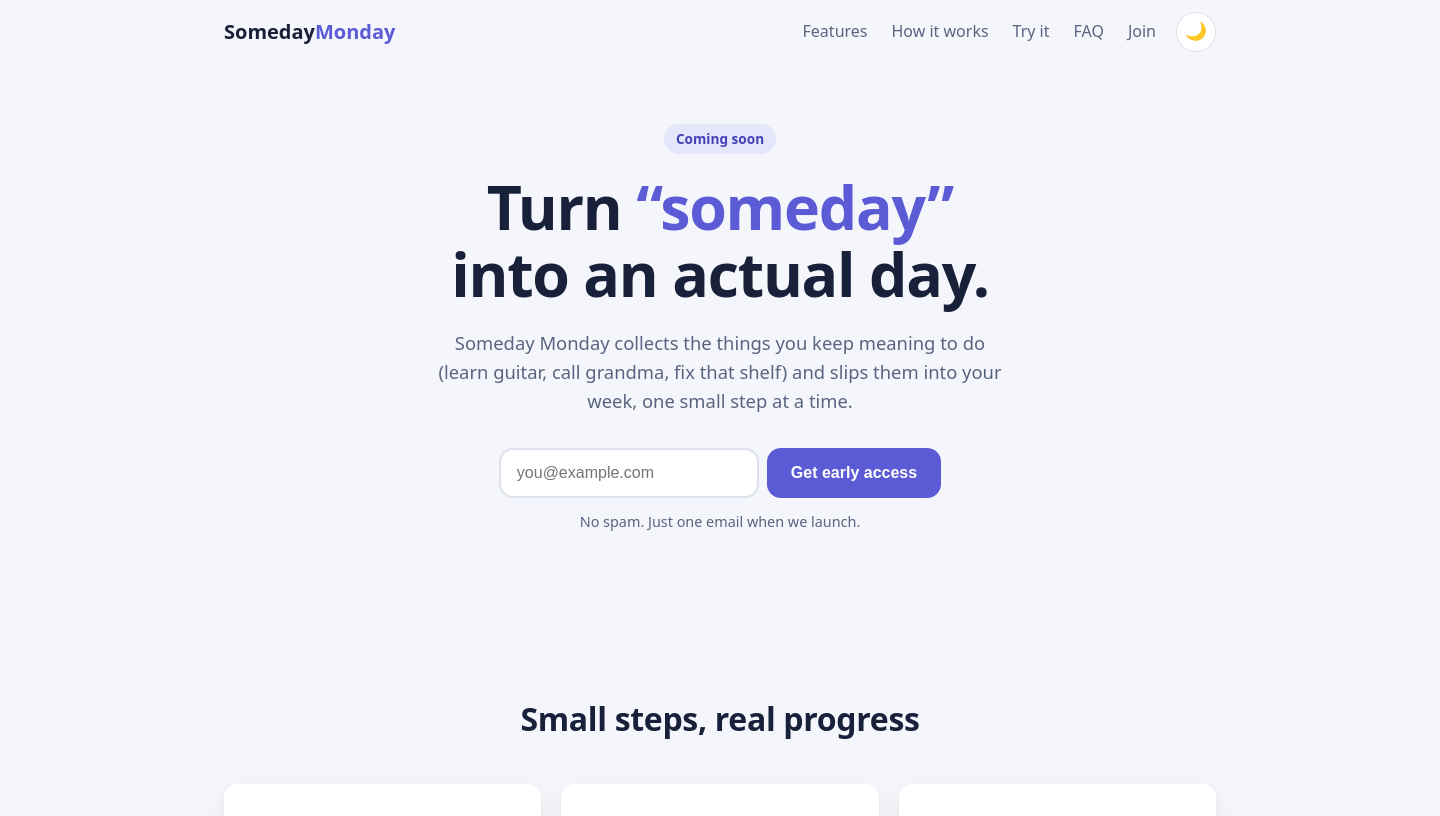
Test case: referral link › shows the spot and a copyable link after signing up
Type "me@example.com" into the field named "Email address" at (629, 473), box x1=499 y1=448 x2=759 y2=498
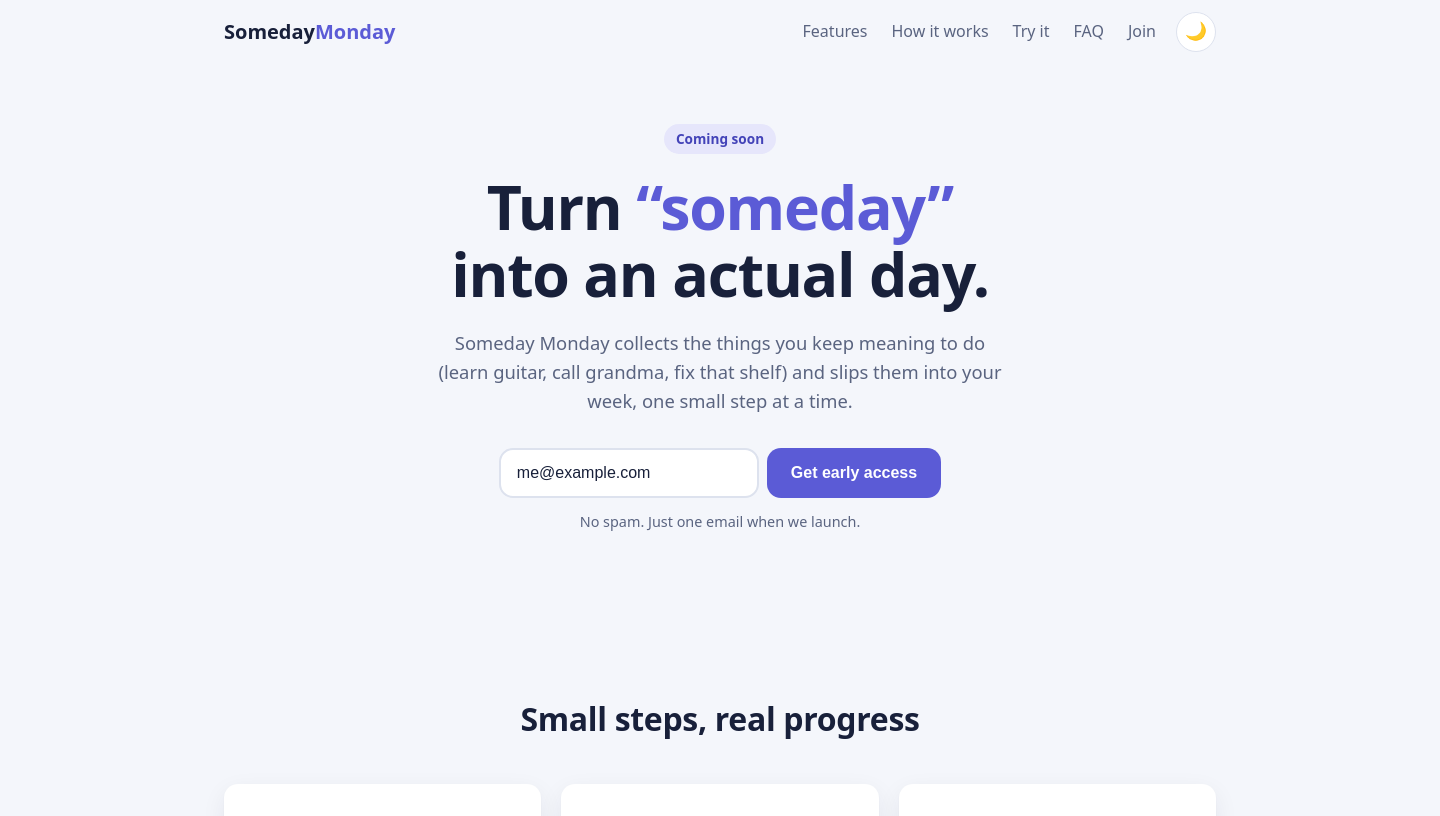
Click the button "Get early access" at (854, 473), box x1=767 y1=448 x2=941 y2=498
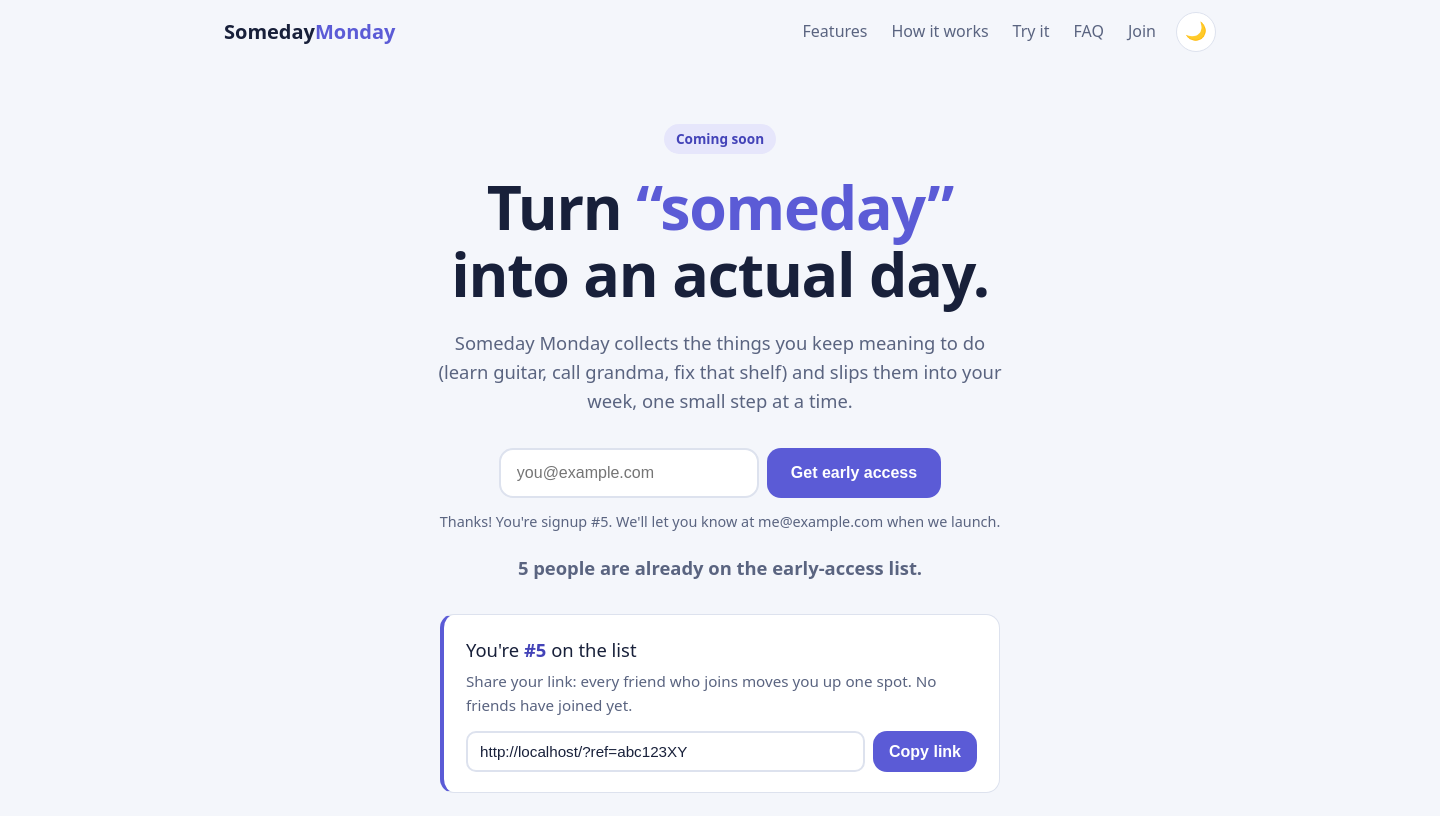
expect the text "You're #5 on the list" is shown: met, box x1=466 y1=637 x2=636 y2=662
expect the text "No friends have joined yet" is shown: met, box x1=466 y1=671 x2=936 y2=715
Click the button "Copy link" at (925, 752), box x1=873 y1=731 x2=977 y2=772
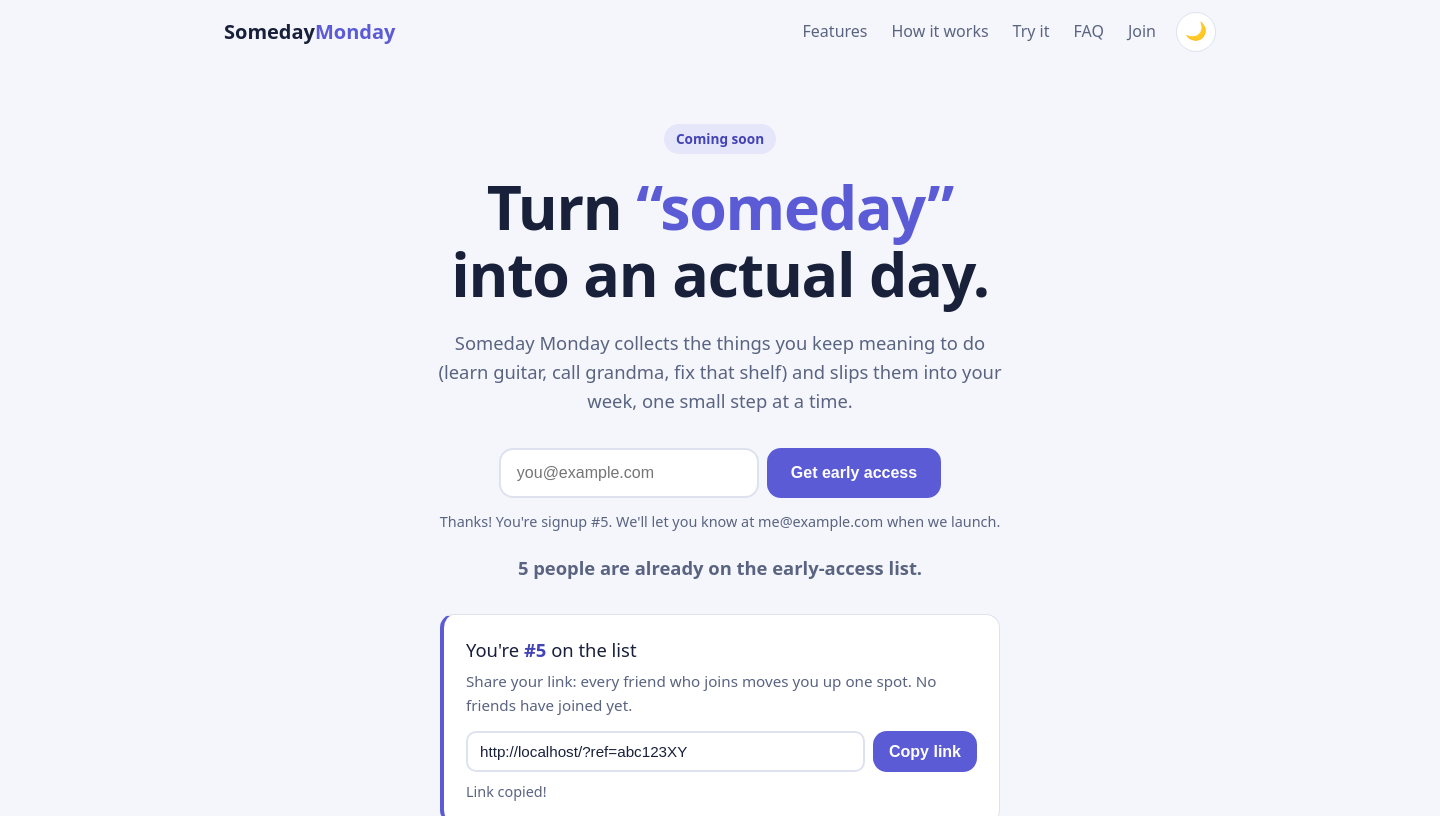
expect the text "Link copied!" is shown: met, box x1=466 y1=782 x2=547 y2=801
